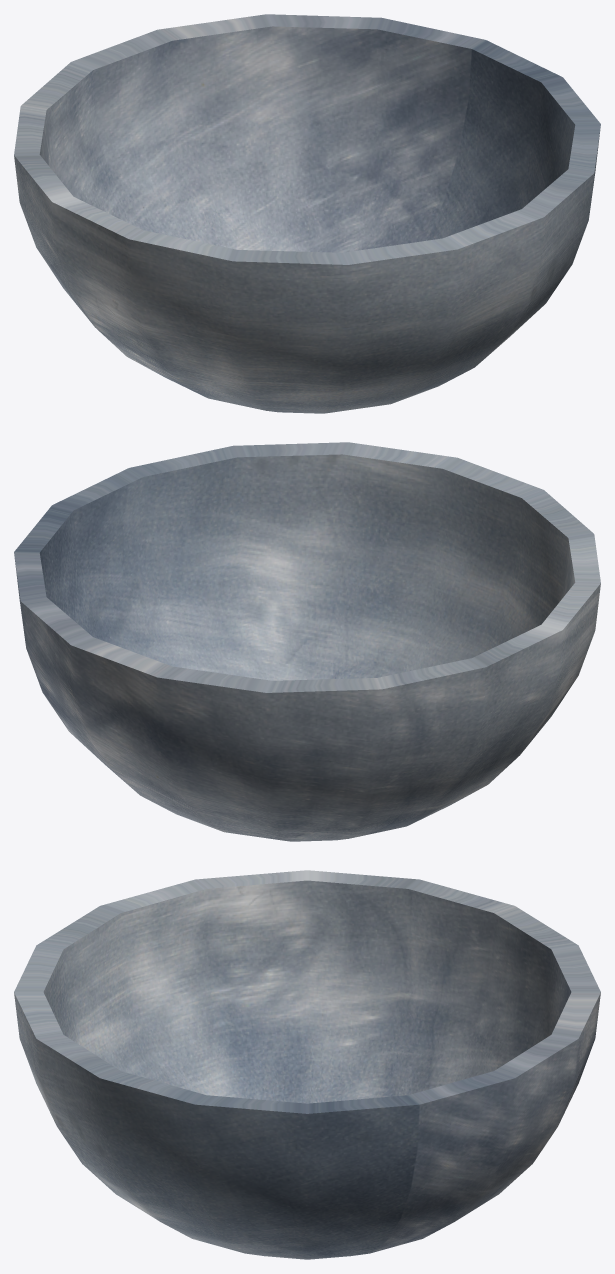
The model's file is Bowl.fbx.
The picture shows the model from 3 angles, top to bottom: view 1: azimuth 30°, elevation 25°; view 2: azimuth 150°, elevation 25°; view 3: azimuth 270°, elevation 25°; orthographic projection. The views are drawn at different scales.
Visible parts, largest first — view 1: Bowl:pSphere1; view 2: Bowl:pSphere1; view 3: Bowl:pSphere1.
Part boxes in pixels (x1,y1,x2,y2): Bowl:pSphere1: (14,14,600,413); Bowl:pSphere1: (14,442,600,841); Bowl:pSphere1: (14,870,600,1259).
Size of the model in its own units: 7.85 by 3.6 by 7.99.
